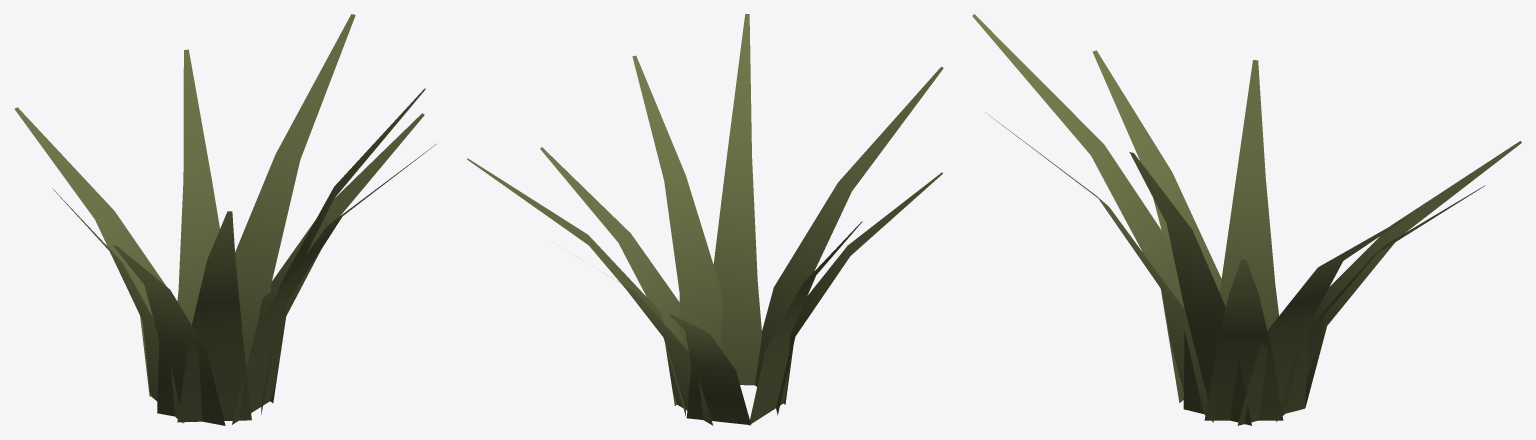
The model's file is ph_env_grass_tuft.glb.
3 views of the same model, side by side, from view 1: azimuth 30°, elevation 25°; view 2: azimuth 150°, elevation 25°; view 3: azimuth 270°, elevation 25° (orthographic). The views are drawn at different scales.
Parts seen in each view (by area): view 1: ph_env_grass_tuft; view 2: ph_env_grass_tuft; view 3: ph_env_grass_tuft.
Boxes of the visible parts, <box> form: ph_env_grass_tuft: <box>14,14,436,425</box>; ph_env_grass_tuft: <box>467,14,943,425</box>; ph_env_grass_tuft: <box>972,14,1521,425</box>.
Size of the model in its own units: 0.3598 by 0.2848 by 0.4183.
